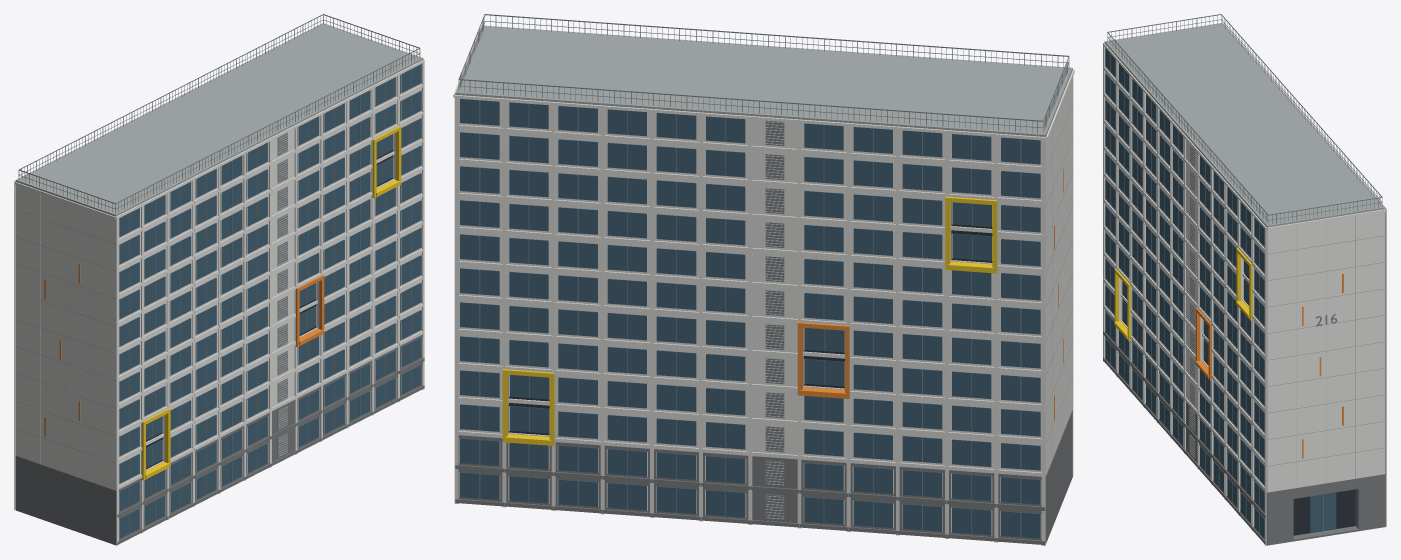
Rendered from bespoke-songpa-helio-city-216.glb.
3 views of the same model, side by side, from view 1: azimuth 30°, elevation 25°; view 2: azimuth 150°, elevation 25°; view 3: azimuth 270°, elevation 25° (orthographic). The views are drawn at different scales.
Visible parts, largest first — view 1: Helio216_editable_Helio216_white_slab_frames, Helio216_editable_Helio216_dark_blue_grey_glazing, Helio216_editable_Helio216_low_roof_deck, Helio216_editable_Helio216_grey_service_grille, Helio216_editable_Helio216_dark_grey_twofloor_base, Helio216_editable_Helio216_blankwall_grey_panels, Helio216_editable_Helio216_yellow_projecting_rectangular_fra, Helio216_editable_Helio216_orange_narrow_accent; view 2: Helio216_editable_Helio216_dark_blue_grey_glazing, Helio216_editable_Helio216_white_slab_frames, Helio216_editable_Helio216_low_roof_deck, Helio216_editable_Helio216_grey_service_grille, Helio216_editable_Helio216_dark_grey_twofloor_base, Helio216_editable_Helio216_yellow_projecting_rectangular_fra, Helio216_editable_Helio216_blankwall_grey_panels, Helio216_editable_Helio216_orange_narrow_accent, Helio216_editable_Helio216_deep_shaded_frame_recess; view 3: Helio216_editable_Helio216_white_slab_frames, Helio216_editable_Helio216_dark_blue_grey_glazing, Helio216_editable_Helio216_low_roof_deck, Helio216_editable_Helio216_grey_service_grille, Helio216_editable_Helio216_dark_grey_twofloor_base, Helio216_editable_Helio216_blankwall_grey_panels, Helio216_editable_Helio216_deep_shaded_frame_recess, Helio216_editable_Helio216_yellow_projecting_rectangular_fra, Helio216_editable_Helio216_orange_narrow_accent.
Boxes of the visible parts, x1,y1,x2,y2 form: Helio216_editable_Helio216_white_slab_frames: [14, 59, 424, 545]; Helio216_editable_Helio216_dark_blue_grey_glazing: [119, 64, 421, 538]; Helio216_editable_Helio216_low_roof_deck: [15, 23, 423, 216]; Helio216_editable_Helio216_grey_service_grille: [16, 14, 420, 533]; Helio216_editable_Helio216_dark_grey_twofloor_base: [15, 335, 424, 545]; Helio216_editable_Helio216_blankwall_grey_panels: [40, 133, 287, 481]; Helio216_editable_Helio216_yellow_projecting_rectangular_fra: [142, 126, 401, 480]; Helio216_editable_Helio216_orange_narrow_accent: [44, 264, 324, 436]; Helio216_editable_Helio216_dark_blue_grey_glazing: [460, 99, 1040, 538]; Helio216_editable_Helio216_white_slab_frames: [453, 27, 1074, 545]; Helio216_editable_Helio216_low_roof_deck: [455, 25, 1072, 136]; Helio216_editable_Helio216_grey_service_grille: [458, 14, 1072, 537]; Helio216_editable_Helio216_dark_grey_twofloor_base: [455, 410, 1072, 544]; Helio216_editable_Helio216_yellow_projecting_rectangular_fra: [502, 196, 997, 445]; Helio216_editable_Helio216_blankwall_grey_panels: [765, 120, 1052, 519]; Helio216_editable_Helio216_orange_narrow_accent: [797, 168, 1063, 420]; Helio216_editable_Helio216_deep_shaded_frame_recess: [508, 202, 992, 435]; Helio216_editable_Helio216_white_slab_frames: [1103, 24, 1386, 545]; Helio216_editable_Helio216_dark_blue_grey_glazing: [1105, 48, 1336, 537]; Helio216_editable_Helio216_low_roof_deck: [1104, 23, 1385, 227]; Helio216_editable_Helio216_grey_service_grille: [1107, 14, 1384, 532]; Helio216_editable_Helio216_dark_grey_twofloor_base: [1103, 310, 1385, 545]; Helio216_editable_Helio216_blankwall_grey_panels: [1189, 143, 1355, 487]; Helio216_editable_Helio216_deep_shaded_frame_recess: [1122, 273, 1355, 535]; Helio216_editable_Helio216_yellow_projecting_rectangular_fra: [1114, 248, 1253, 340]; Helio216_editable_Helio216_orange_narrow_accent: [1195, 274, 1343, 458].
Size of the model in its own units: 46.06 by 34.6 by 27.
